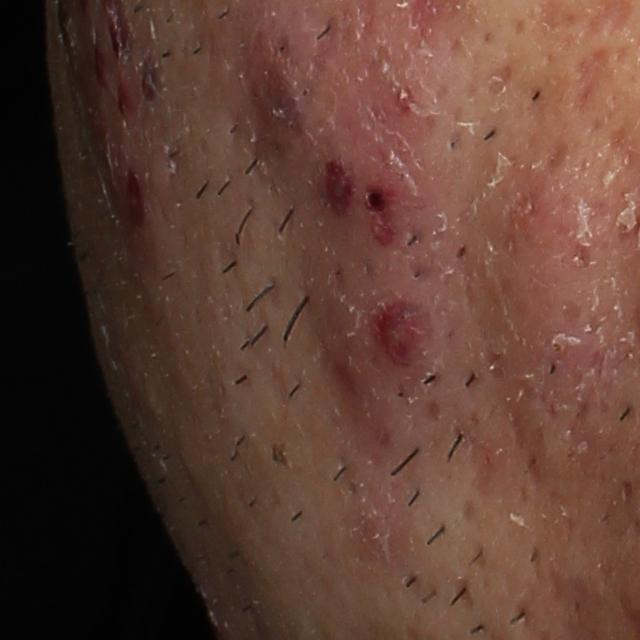atrophic_scar: (565, 44, 620, 118)
nodule: (486, 146, 620, 533)
